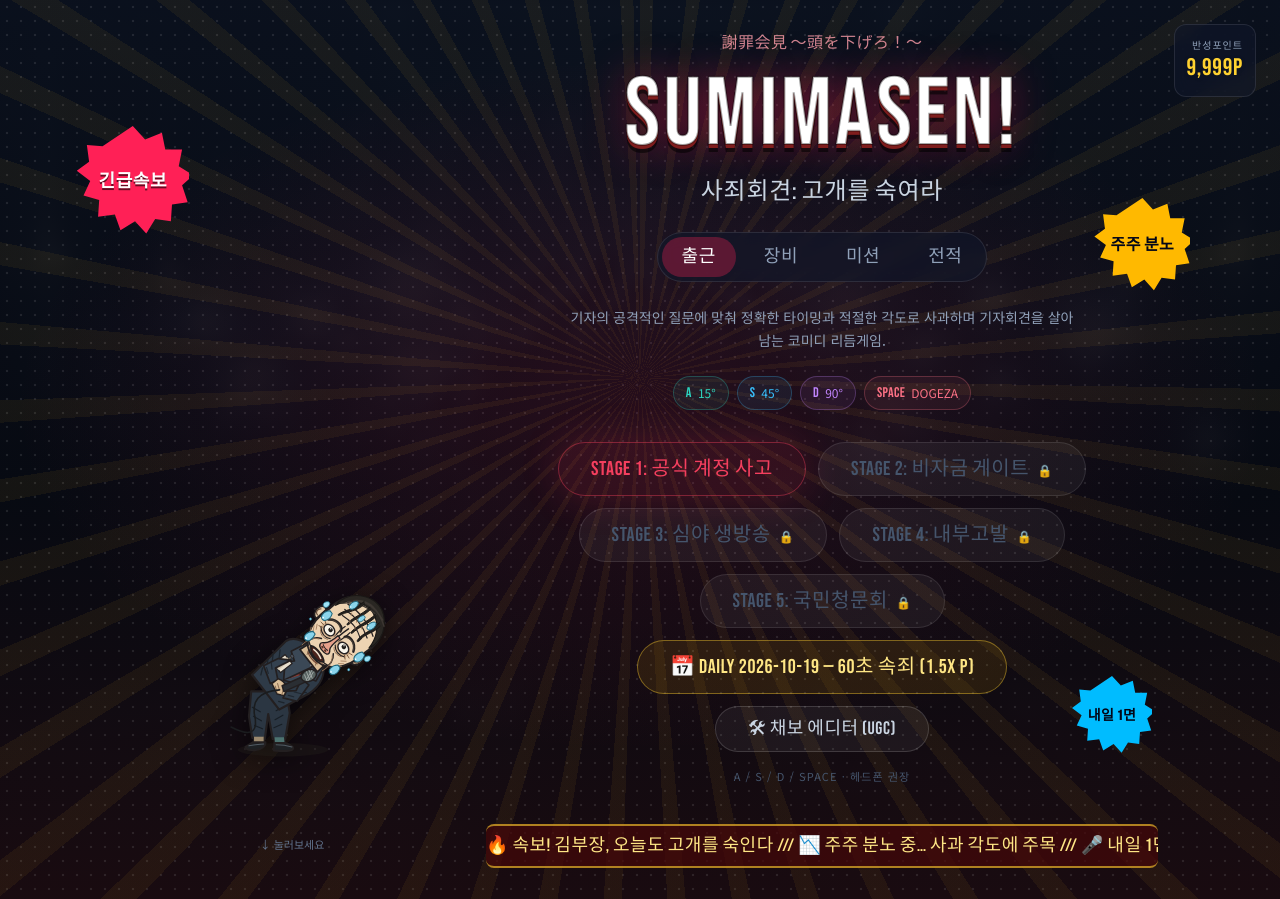
Scenario: TitleScreen › 상점: 카테고리 3개가 모두 나온다
The width and height of the screenshot is (1280, 899).
Step 1. Click the button "장비" → (781, 257), box [744, 237, 818, 277]
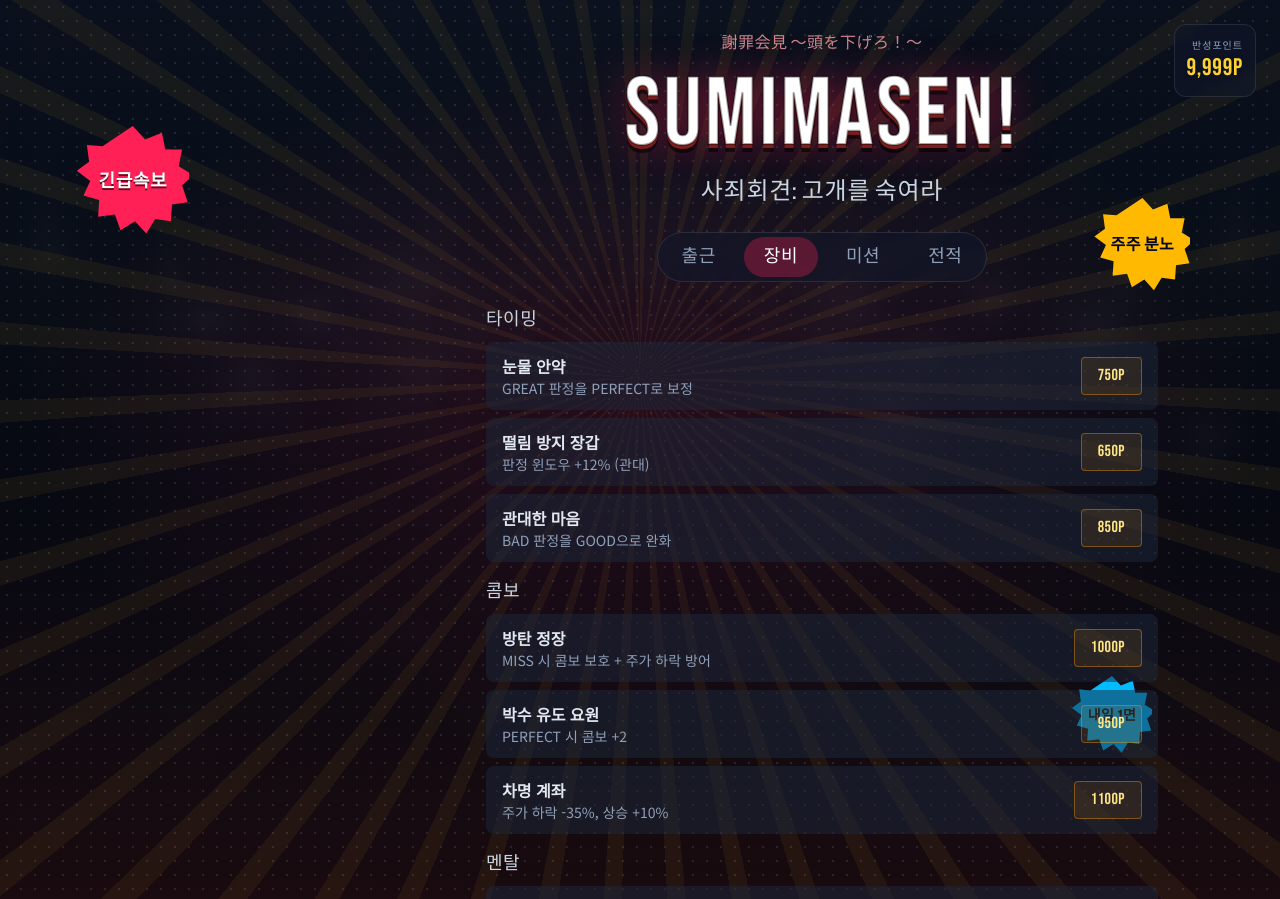
Expected: the heading "타이밍" is shown, [486, 309, 537, 330]
Result: the heading "멘탈" is shown at [486, 853, 520, 874]
